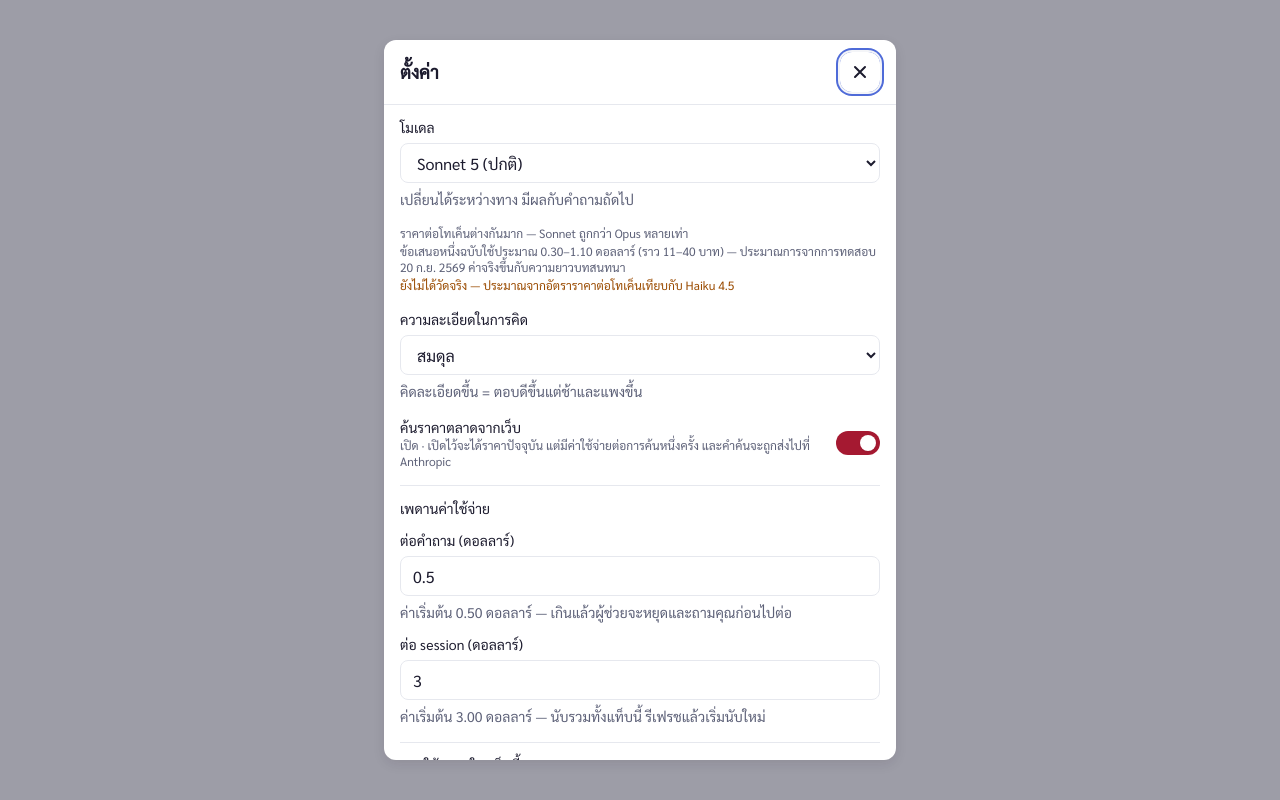
Test: SettingsDialog (06 §4.6) › ใส่เพดานต่อคำถามเป็น 0 → error และไม่บันทึกค่า
Replace the text in the field labelled "ต่อคำถาม (ดอลลาร์)" with "0": (640, 576) x1=400 y1=556 x2=880 y2=596
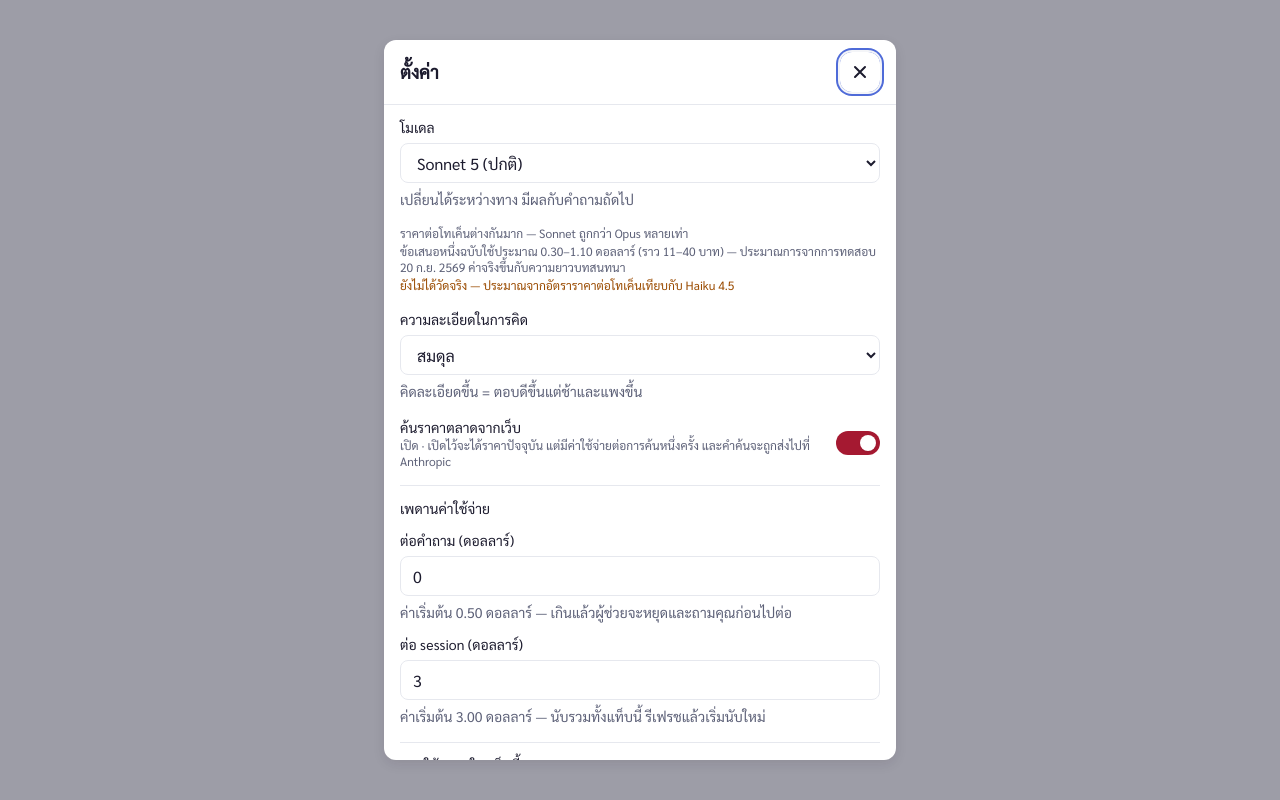
Leave the field labelled "ต่อคำถาม (ดอลลาร์)", box x1=400 y1=556 x2=880 y2=596
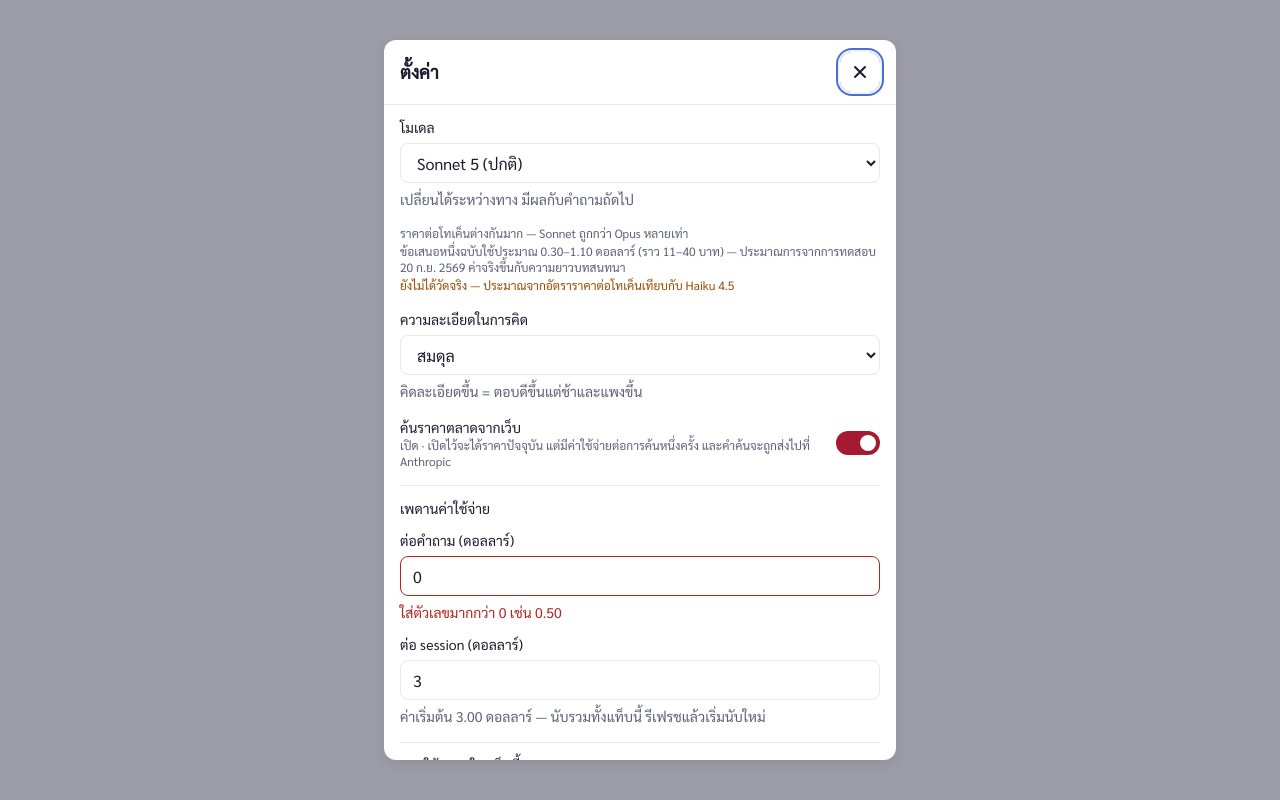
Check: the text "ใส่ตัวเลขมากกว่า 0 เช่น 0.50" is shown, box x1=400 y1=603 x2=562 y2=621
